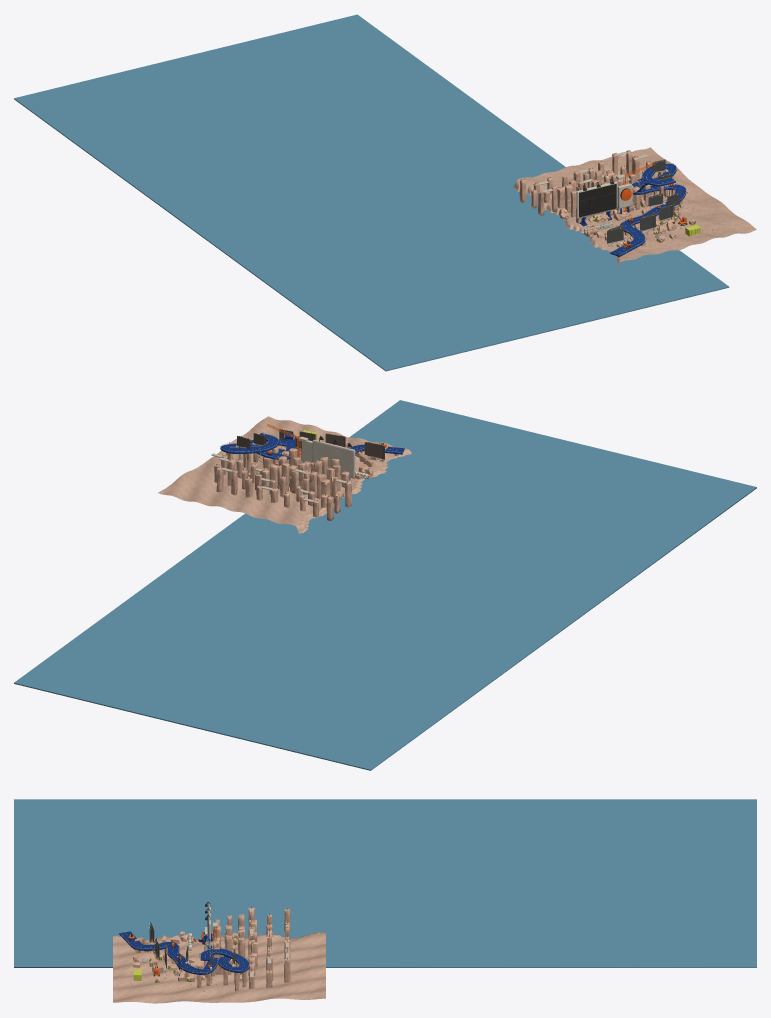
3 renders of one model, top to bottom at view 1: azimuth 30°, elevation 25°; view 2: azimuth 150°, elevation 25°; view 3: azimuth 270°, elevation 25°, orthographic. The views are drawn at different scales.
Visible parts, largest first — view 1: static_pale_coastal_water, sculpted_coastal_bed, static_salmon_quarried_limestone, continuous_supported_blue_detour; view 2: static_pale_coastal_water, sculpted_coastal_bed, static_salmon_quarried_limestone, continuous_supported_blue_detour, clock_cast_housing; view 3: static_pale_coastal_water, sculpted_coastal_bed, static_salmon_quarried_limestone, continuous_supported_blue_detour.
Boxes of the visible parts, left/top/right/bottom form: static_pale_coastal_water: left=14, top=14, right=729, bottom=371; sculpted_coastal_bed: left=513, top=147, right=756, bottom=264; static_salmon_quarried_limestone: left=519, top=150, right=713, bottom=257; continuous_supported_blue_detour: left=610, top=163, right=686, bottom=256; static_pale_coastal_water: left=14, top=400, right=756, bottom=770; sculpted_coastal_bed: left=158, top=416, right=411, bottom=533; static_salmon_quarried_limestone: left=214, top=431, right=399, bottom=520; continuous_supported_blue_detour: left=220, top=433, right=404, bottom=459; clock_cast_housing: left=312, top=439, right=355, bottom=478; static_pale_coastal_water: left=14, top=799, right=756, bottom=967; sculpted_coastal_bed: left=113, top=932, right=325, bottom=1003; static_salmon_quarried_limestone: left=132, top=907, right=290, bottom=991; continuous_supported_blue_detour: left=119, top=931, right=249, bottom=974.
Bounding box in the file's own units: 98 × 10.05 × 150.
Materials: 24 (6 with a texture image).
